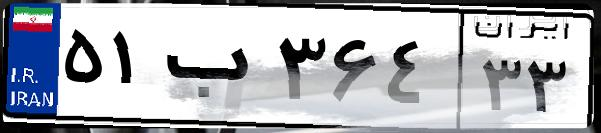1: (110, 28, 158, 98)
3: (270, 28, 330, 110), (475, 38, 525, 113), (525, 38, 570, 115)
4: (385, 28, 445, 110)
5: (57, 26, 110, 100)
6: (330, 28, 385, 110)
ب: (158, 20, 270, 120)
